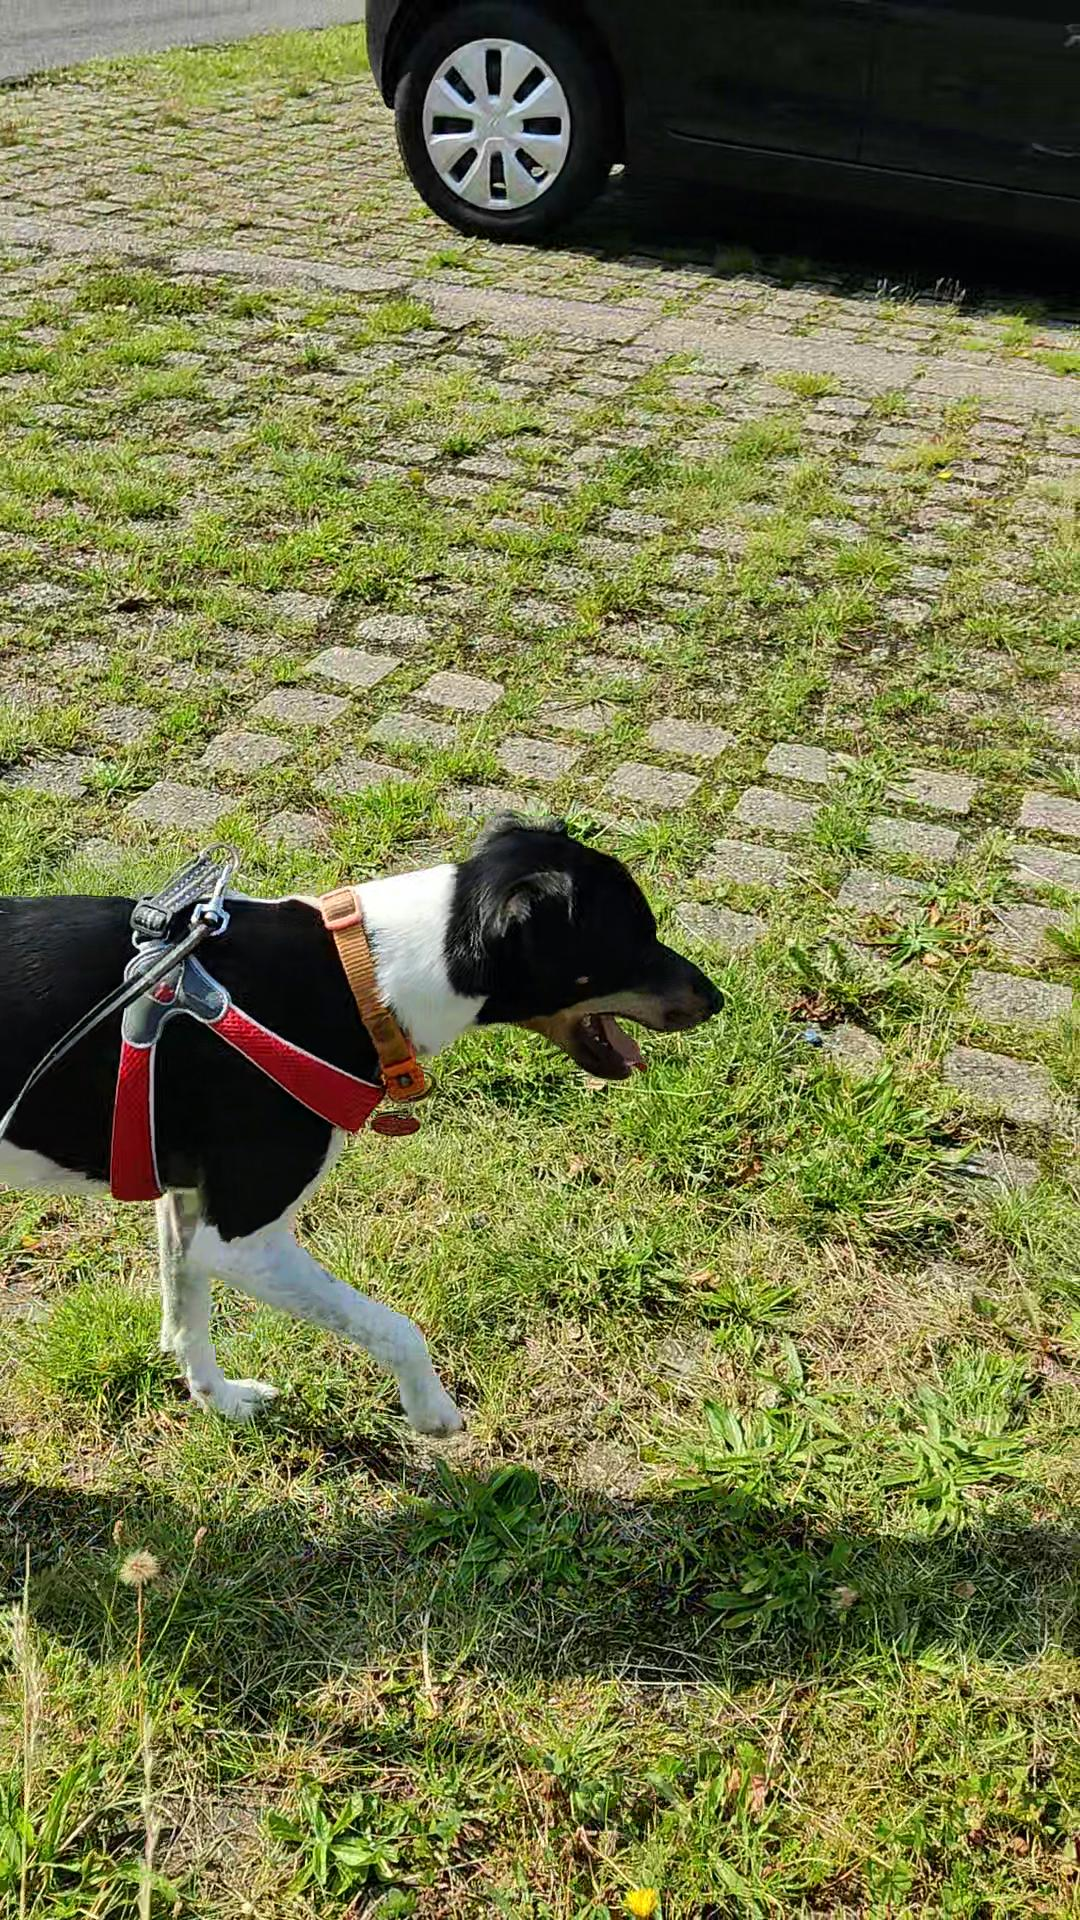Dog: (0, 807, 737, 1447)
